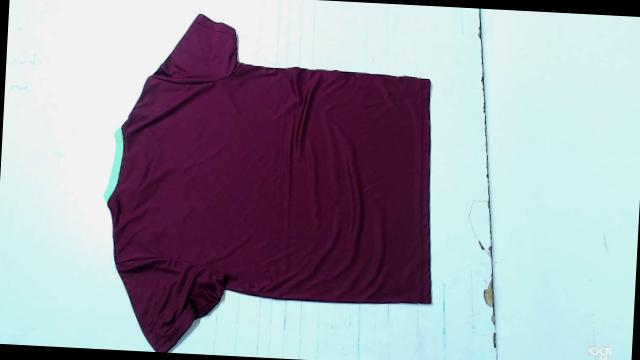new-garment: (106, 14, 430, 352)
